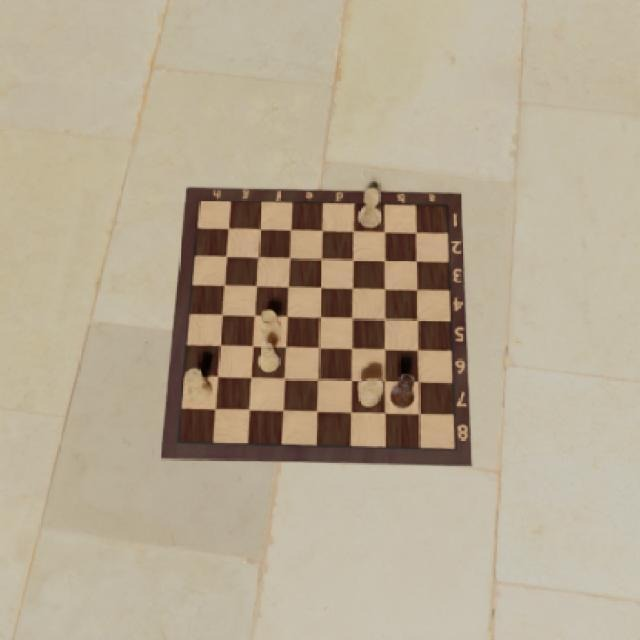black-queen: (390, 348, 415, 414)
white-rook: (257, 308, 283, 378), (361, 174, 383, 234)
